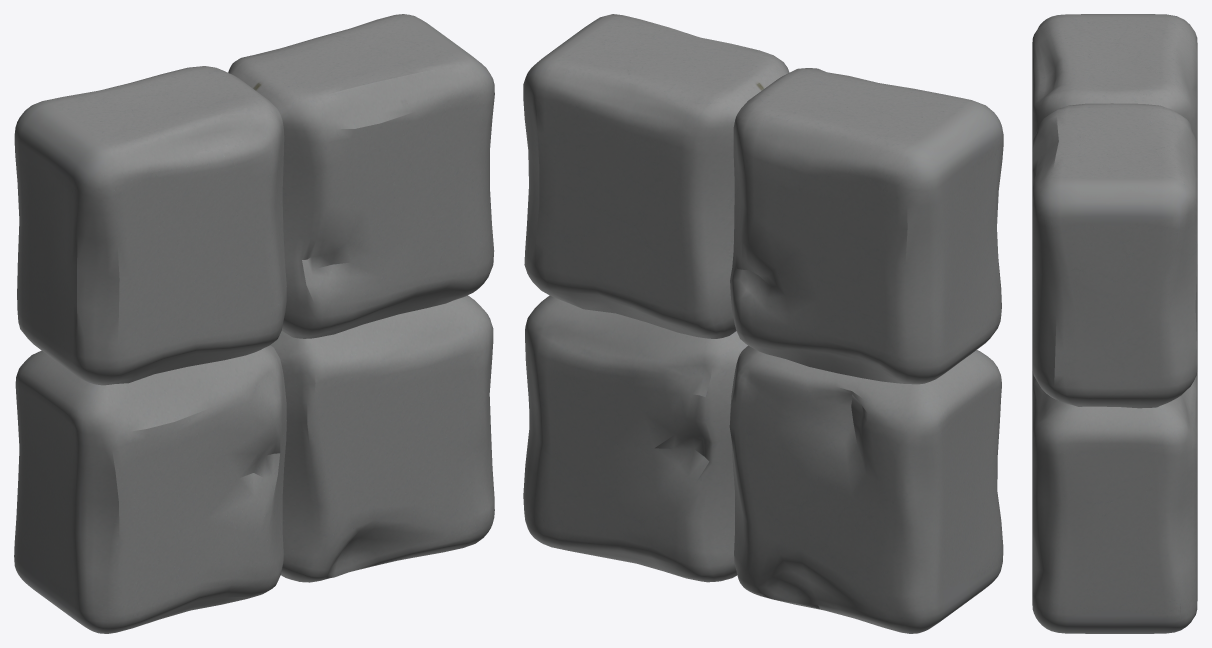
The model's file is brick_L_cinder_old.glb.
3 renders of one model, left to right at view 1: azimuth 30°, elevation 25°; view 2: azimuth 150°, elevation 25°; view 3: azimuth 270°, elevation 25°, orthographic. The views are drawn at different scales.
Parts seen in each view (by area): view 1: Mesh_0; view 2: Mesh_0; view 3: Mesh_0.
Boxes of the visible parts, x1,y1,x2,y2 form: Mesh_0: (14,14,494,633); Mesh_0: (523,14,1003,633); Mesh_0: (1032,14,1197,633).
Size of the model in its own units: 1.7 by 1.9 by 0.6296.
1 material, 1 textured.
